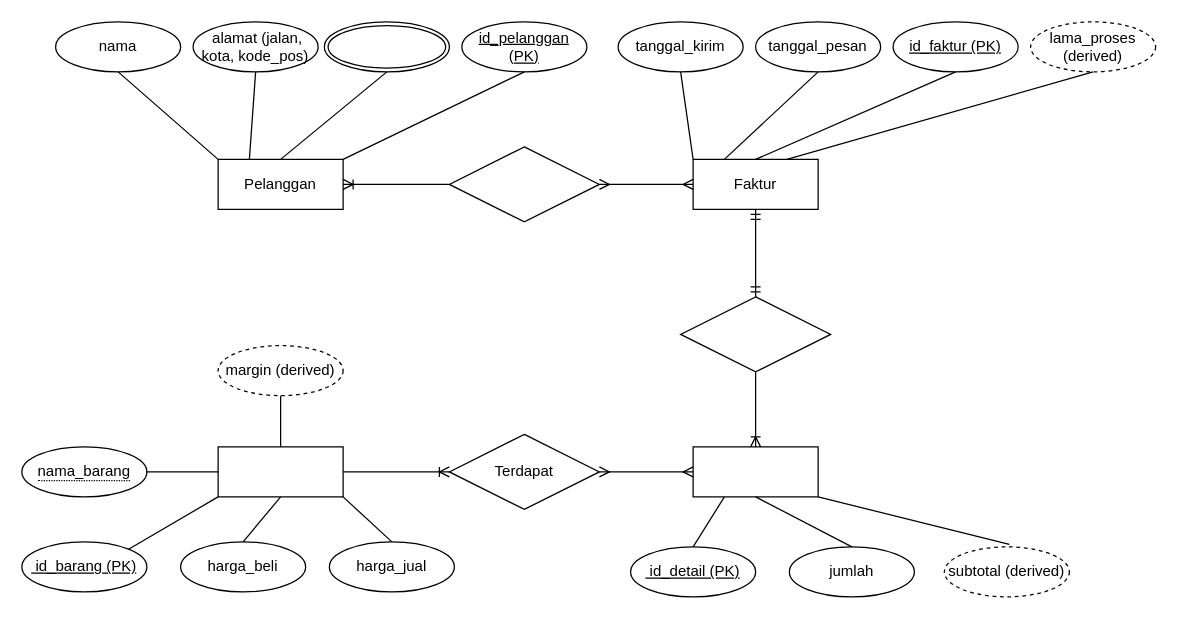
Image size: 1178x619. Some labels were removed from this diagram. Here are the shapes that lost their labels. From the top down, the centre of each, then its label:
At point 386,46: "no_telp {multi}".
At point 523,184: "Memesan".
At point 755,334: "Memiliki".
At point 280,471: "barang".
At point 755,471: "Detail Faktur".
